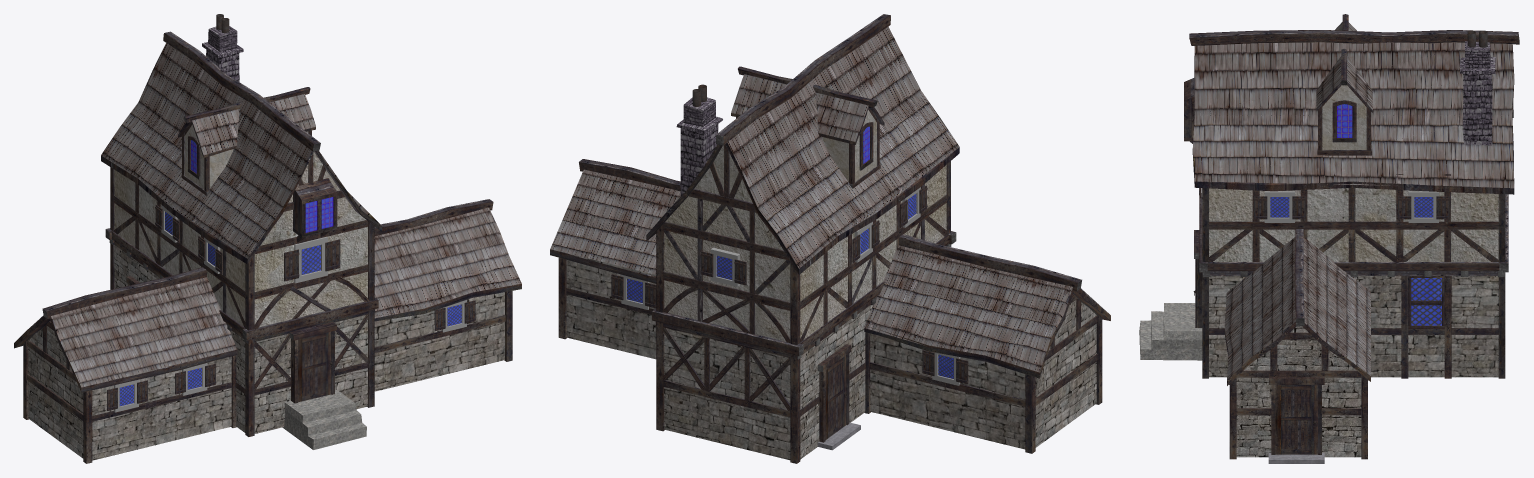
File: house.obj
3 renders of one model, left to right at view 1: azimuth 30°, elevation 25°; view 2: azimuth 150°, elevation 25°; view 3: azimuth 270°, elevation 25°, orthographic. The views are drawn at different scales.
Visible parts, largest first — view 1: Roof_Cube.000, Level1_Cube.001, WoodenBeams_Cube.000, Level2_Cube.000, RoofFrame_Cube.000, WindowFrames_Cube.000, Steps_Cube.000, DoorFront_Cube.000, Chimney_Cube.000, DoorFrontFrame_Cube.000, Level3_Cube.000, Window1Level3_Cube.000 (+1 smaller); view 2: Roof_Cube.000, Level1_Cube.001, WoodenBeams_Cube.000, Level2_Cube.000, RoofFrame_Cube.000, WindowFrames_Cube.000, Chimney_Cube.000, DoorBack_Cube.000, Level3_Cube.000, DoorBackFrame_Cube.000; view 3: Roof_Cube.000, Level1_Cube.001, WoodenBeams_Cube.000, Level2_Cube.000, RoofFrame_Cube.000, WindowFrames_Cube.000, Steps_Cube.000, Chimney_Cube.000, DoorSide_Cube.000, Level3_Cube.000, Window1Level1_Cube.000, DoorSideFrame_Cube.000 (+5 smaller).
Part boxes in pixels (x1,y1,x2,y2): Roof_Cube.000: (30,43,521,387); Level1_Cube.001: (28,245,504,460); WoodenBeams_Cube.000: (23,104,512,463); Level2_Cube.000: (114,152,367,327); RoofFrame_Cube.000: (14,31,521,392); WindowFrames_Cube.000: (107,136,475,412); Steps_Cube.000: (282,390,366,449); DoorFront_Cube.000: (298,331,331,402); Chimney_Cube.000: (202,26,243,81); DoorFrontFrame_Cube.000: (289,322,336,403); Level3_Cube.000: (184,124,308,189); Window1Level3_Cube.000: (305,197,333,232); Roof_Cube.000: (550,26,1108,372); Level1_Cube.001: (566,253,1096,460); WoodenBeams_Cube.000: (558,107,1102,463); Level2_Cube.000: (664,145,946,341); RoofFrame_Cube.000: (550,14,1110,378); WindowFrames_Cube.000: (611,122,968,385); Chimney_Cube.000: (676,97,722,196); DoorBack_Cube.000: (825,355,846,439); Level3_Cube.000: (822,110,876,181); DoorBackFrame_Cube.000: (818,344,851,442); Roof_Cube.000: (1192,22,1514,379); Level1_Cube.001: (1209,276,1498,457); WoodenBeams_Cube.000: (1199,85,1508,459); Level2_Cube.000: (1209,188,1498,261); RoofFrame_Cube.000: (1189,14,1519,385); WindowFrames_Cube.000: (1184,77,1449,384); Steps_Cube.000: (1139,303,1202,360); Chimney_Cube.000: (1459,41,1495,145); DoorSide_Cube.000: (1275,385,1317,454); Level3_Cube.000: (1322,85,1366,149); Window1Level1_Cube.000: (1411,278,1441,325); DoorSideFrame_Cube.000: (1269,377,1324,454).
Bounding box in the file's own units: 15.09 × 9.79 × 10.13.
Materials: 16 (15 with a texture image).
